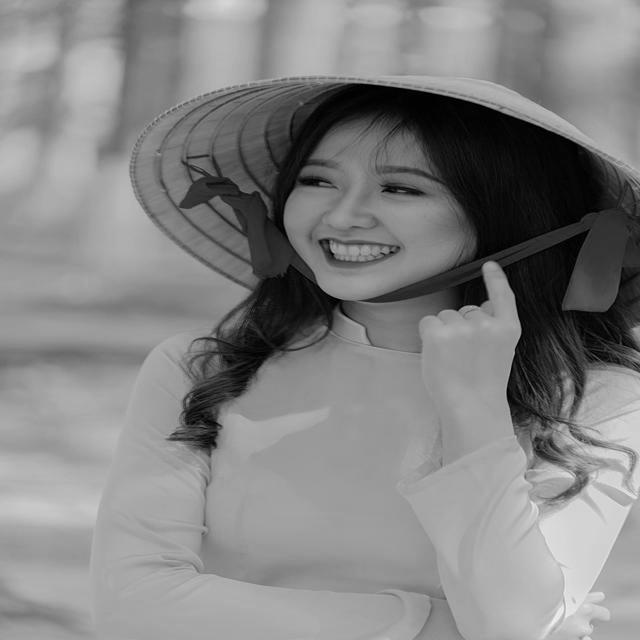Happiness: (280, 118, 472, 304)
